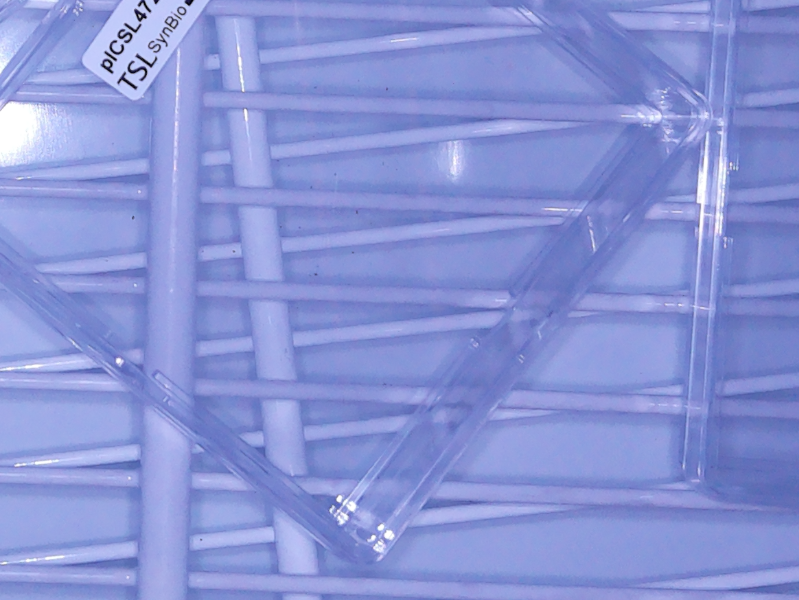plate: (1, 1, 711, 569), (681, 1, 799, 506)
